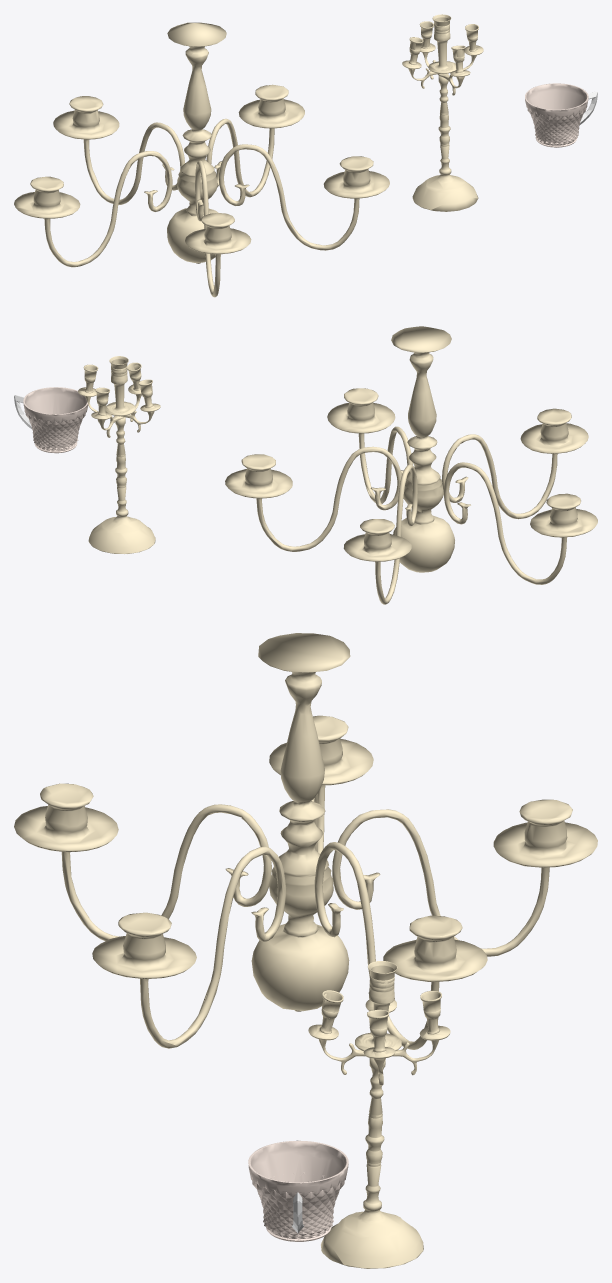
Rendered from venus.19786740.glb.
The picture shows the model from 3 angles, top to bottom: view 1: azimuth 30°, elevation 25°; view 2: azimuth 150°, elevation 25°; view 3: azimuth 270°, elevation 25°; orthographic projection. The views are drawn at different scales.
Visible parts, largest first — view 1: chandelier, Circle.002, cup; view 2: chandelier, Circle.002, cup; view 3: chandelier, Circle.002, cup.
Boxes of the visible parts, x1,y1,x2,y2 form: chandelier: [14, 22, 389, 297]; Circle.002: [402, 14, 483, 211]; cup: [525, 83, 597, 147]; chandelier: [225, 326, 597, 604]; Circle.002: [78, 356, 160, 553]; cup: [14, 387, 88, 453]; chandelier: [14, 633, 597, 1049]; Circle.002: [308, 961, 450, 1268]; cup: [248, 1140, 348, 1241].
Size of the model in its own units: 4.72 by 1.94 by 2.65.
